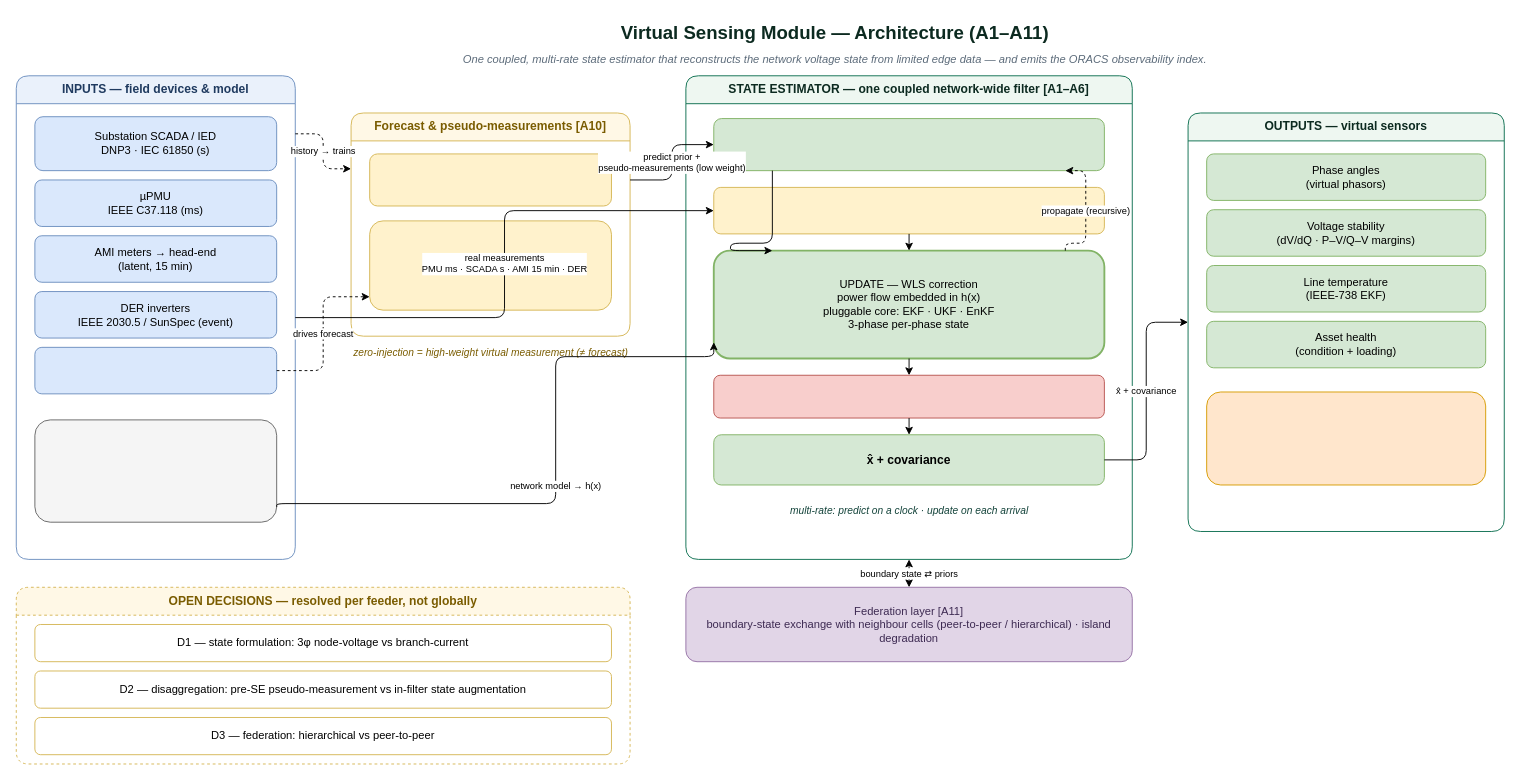
This 1521x780 diagram has some shape labels left out. Here are the shapes that lost their labels. From the top down, the centre of each, then its label:
At point (908, 144): "PREDICT (FASE) x̂(t | t−1)".
At point (490, 179): "Load forecaster".
At point (908, 210): "VALIDATE / GATE range · rate · quality flags".
At point (490, 265): "DER / PV estimation forecast + behind-meter disaggregation".
At point (155, 370): "Weather · GNSS time (exogenous)".
At point (908, 396): "Residual χ² bad-data detection".
At point (1346, 438): "ORACS observability index = covariance → safe DER / microgrid dispatchability".
At point (155, 470): "Real-time topology ADMS / CIM (GridOS) + GOOSE/DNP3 deltas → island cache".
